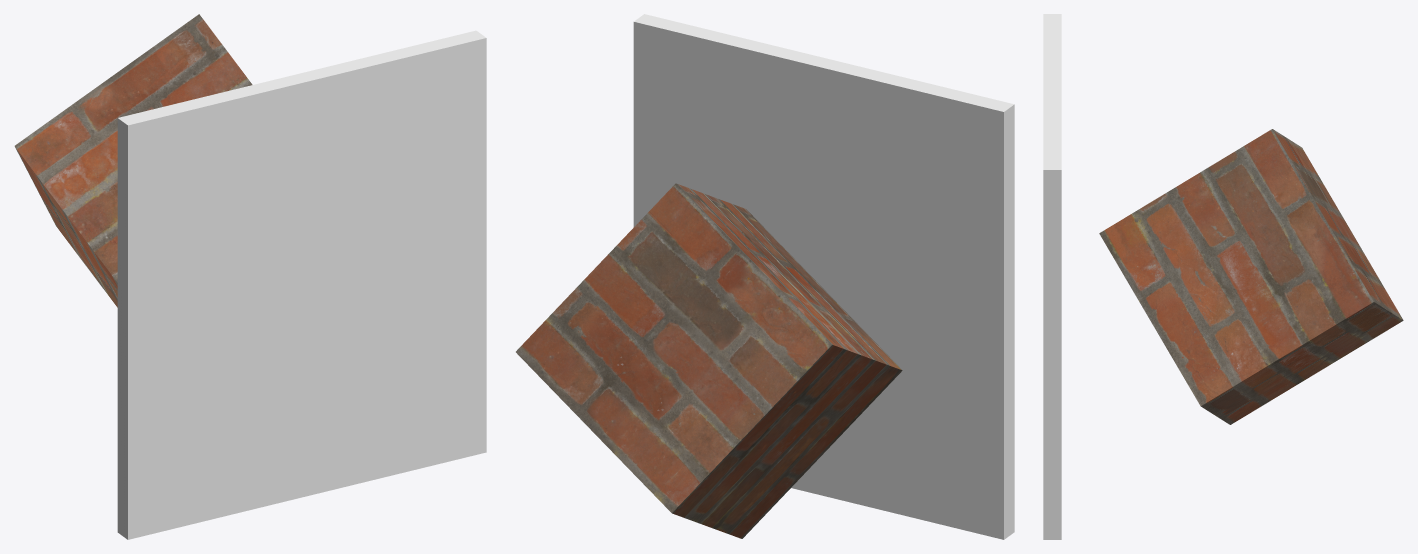
3 views of the same model, side by side, from view 1: azimuth 30°, elevation 25°; view 2: azimuth 150°, elevation 25°; view 3: azimuth 270°, elevation 25° (orthographic). The views are drawn at different scales.
Visible parts, largest first — view 1: Cube.001, Cube; view 2: Cube.001, Cube; view 3: Cube, Cube.001.
Boxes of the visible parts, x1,y1,x2,y2 form: Cube.001: (117,30,486,539); Cube: (14,14,252,307); Cube.001: (633,14,1014,539); Cube: (516,183,902,538); Cube: (1099,129,1403,424); Cube.001: (1043,14,1061,539).
Size of the model in its own units: 3.64 by 4.02 by 3.55.
2 materials, 1 textured.
